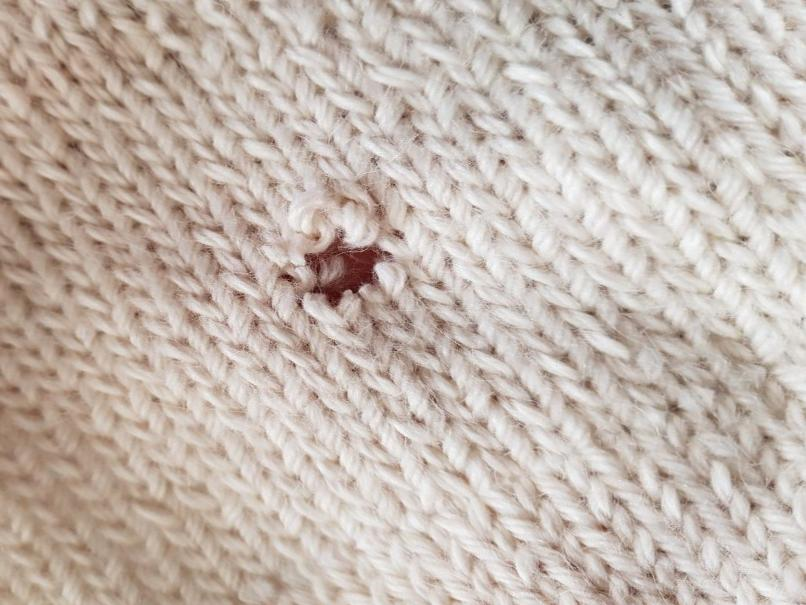hole: (277, 220, 399, 317)
